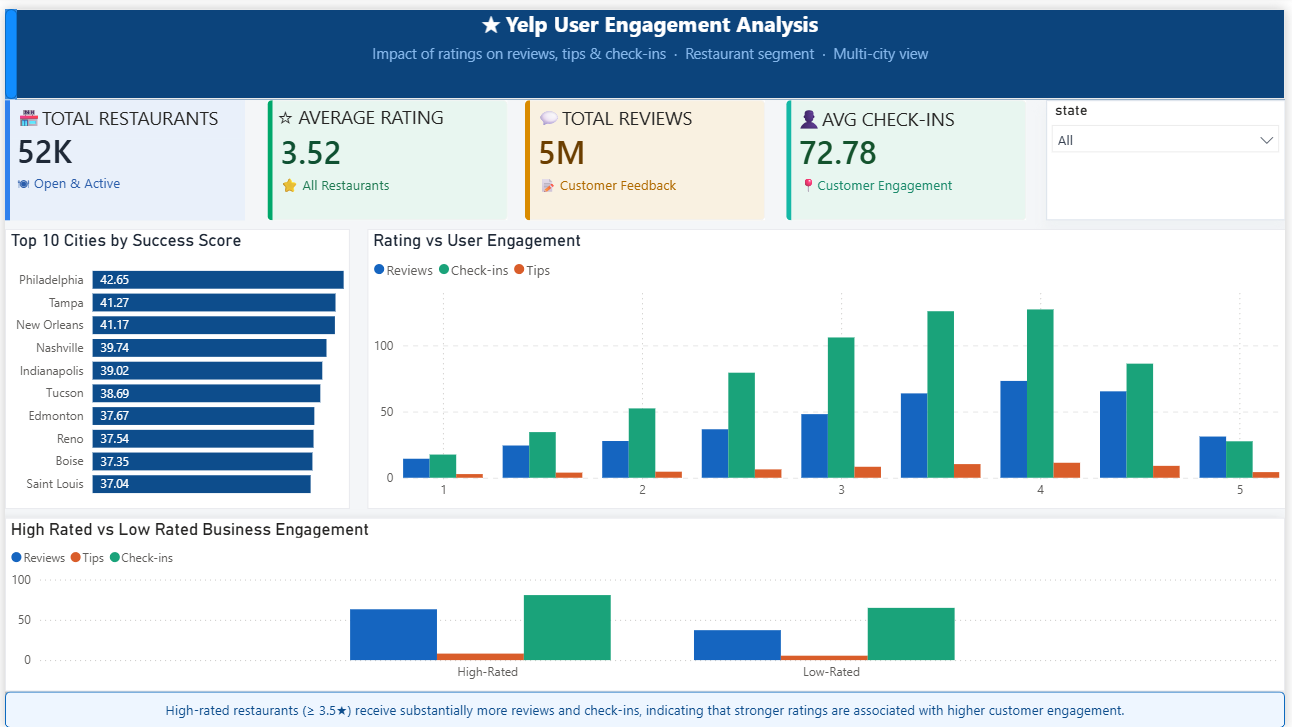

This screenshot's page, from the dashboard's own definition file:
{"tool":"powerbi","page":{"name":"Page 1","canvas":[1280,720],"ordinal":0},"visuals":[{"type":"textbox","title":"   ★ Yelp User Engagement Analysis","box":[9.7,0,1270.4,90.5],"z":0},{"type":"shape","box":[0,0,12.3,90],"z":1000},{"type":"cardVisual","title":"🏪TOTAL RESTAURANTS","fields":{"Data":["Sum(kpi_summary.Total_Restaurants)"]},"box":[0,91,240.1,120],"z":2000},{"type":"cardVisual","title":"☆ AVERAGE RATING","fields":{"Data":["Sum(kpi_summary.Average_Rating)"]},"box":[262.5,91,240,120],"z":3000},{"type":"cardVisual","title":"   💬 TOTAL REVIEWS","fields":{"Data":["Sum(kpi_summary.Total_Reviews)"]},"box":[520.6,91,240,120],"z":4000},{"type":"slicer","fields":{"Values":["city_analysis.state"]},"box":[1041.1,91.7,238.9,120],"z":5000},{"type":"clusteredColumnChart","title":"Rating vs User Engagement","fields":{"Category":["rating_engagement.rating"],"Y":["Sum(rating_engagement.avg_review_count)","Sum(rating_engagement.avg_checkin_count)","Sum(rating_engagement.avg_tip_count)"]},"box":[361.9,220,918.1,279.9],"z":6000},{"type":"clusteredColumnChart","title":"High Rated vs Low Rated Business Engagement","fields":{"Category":["engagement_summary.rating_category"],"Y":["Sum(engagement_summary.review_count)","Sum(engagement_summary.tip_count)","Sum(engagement_summary.checkin_count)"]},"box":[0,508.8,1280,173.8],"z":7000},{"type":"clusteredBarChart","title":"Top 10 Cities by Success Score","fields":{"Category":["city_analysis.city"],"Y":["Sum(city_analysis.success_score)"]},"box":[0,220,345,279.9],"z":8000},{"type":"shape","box":[0,682.5,1280,37.5],"z":9000},{"type":"cardVisual","title":"👤✓AVG CHECK-INS","fields":{"Data":["Avg(engagement_summary.checkin_count)"]},"box":[780.8,91,240.1,120],"z":10000},{"type":"textbox","box":[6,91.7,230.4,38.6],"z":11000},{"type":"textbox","box":[267.8,90.5,230.4,37.4],"z":12000},{"type":"textbox","box":[526,91.7,229.2,37.4],"z":13000},{"type":"textbox","box":[786.6,92.9,229.2,37.4],"z":14000}]}

Visuals, with their boxes in screenshot pixels (x1, y1, x2, y2), scaled from the page's 1280x720 canvas onto the 1292x727 screenshot:
"   ★ Yelp User Engagement Analysis" textbox: {"x1": 10, "y1": 0, "x2": 1291, "y2": 91}
shape: {"x1": 0, "y1": 0, "x2": 12, "y2": 91}
"🏪TOTAL RESTAURANTS" cardVisual: {"x1": 0, "y1": 92, "x2": 242, "y2": 213}
"☆ AVERAGE RATING" cardVisual: {"x1": 265, "y1": 92, "x2": 507, "y2": 213}
"   💬 TOTAL REVIEWS" cardVisual: {"x1": 525, "y1": 92, "x2": 768, "y2": 213}
slicer - city_analysis.state: {"x1": 1051, "y1": 93, "x2": 1291, "y2": 214}
"Rating vs User Engagement" clusteredColumnChart: {"x1": 365, "y1": 222, "x2": 1291, "y2": 505}
"High Rated vs Low Rated Business Engagement" clusteredColumnChart: {"x1": 0, "y1": 514, "x2": 1291, "y2": 689}
"Top 10 Cities by Success Score" clusteredBarChart: {"x1": 0, "y1": 222, "x2": 348, "y2": 505}
shape: {"x1": 0, "y1": 689, "x2": 1291, "y2": 726}
"👤✓AVG CHECK-INS" cardVisual: {"x1": 788, "y1": 92, "x2": 1030, "y2": 213}
textbox: {"x1": 6, "y1": 93, "x2": 239, "y2": 132}
textbox: {"x1": 270, "y1": 91, "x2": 503, "y2": 129}
textbox: {"x1": 531, "y1": 93, "x2": 762, "y2": 130}
textbox: {"x1": 794, "y1": 94, "x2": 1025, "y2": 132}
